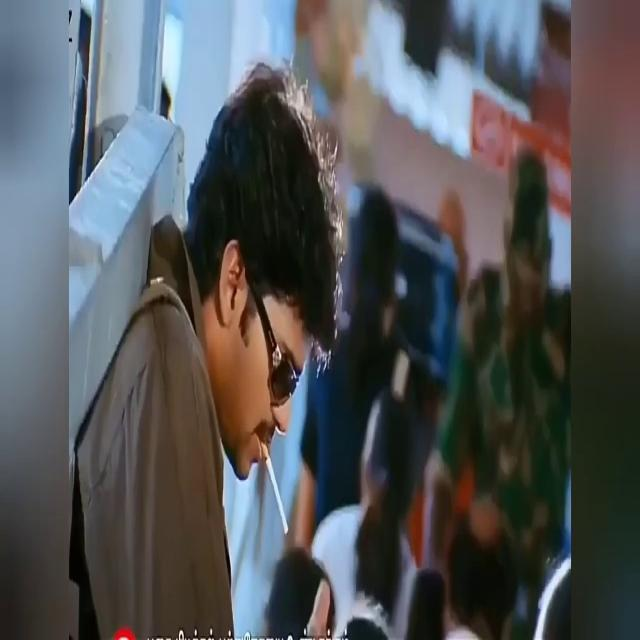smoking: (224, 154, 286, 541)
